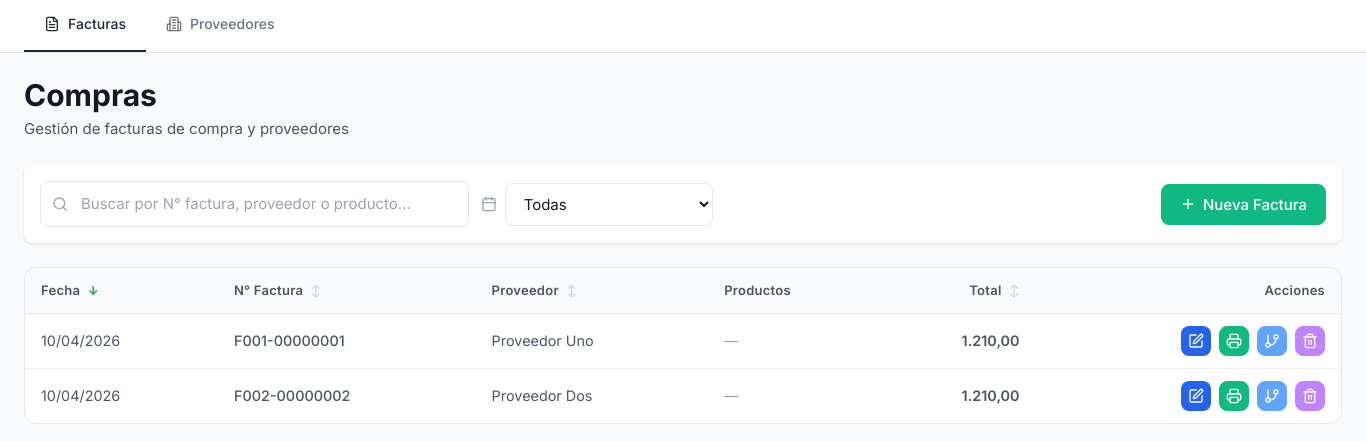
Test case: Compras › filtra facturas al buscar por número de factura
Expected: the text "F001-00000001" is shown, x1=234 y1=332 x2=345 y2=349
Type "F002" into the field with placeholder "Buscar por N° factura, proveedor o producto..." at coordinates (254, 204), box x1=40 y1=181 x2=469 y2=227
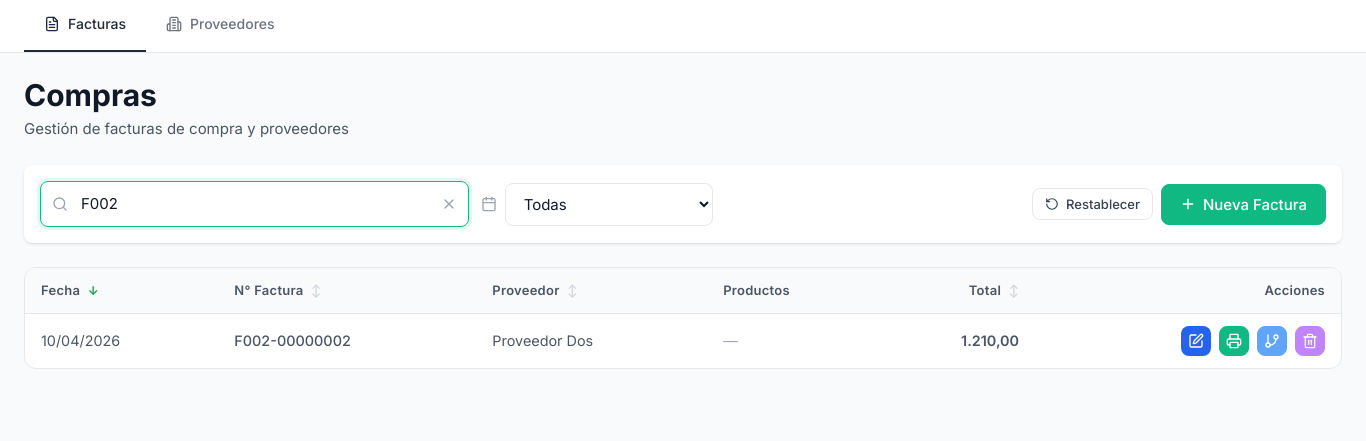
Expected: the text "F002-00000002" is shown, x1=234 y1=332 x2=351 y2=349
Expected: the text "F001-00000001" is gone
